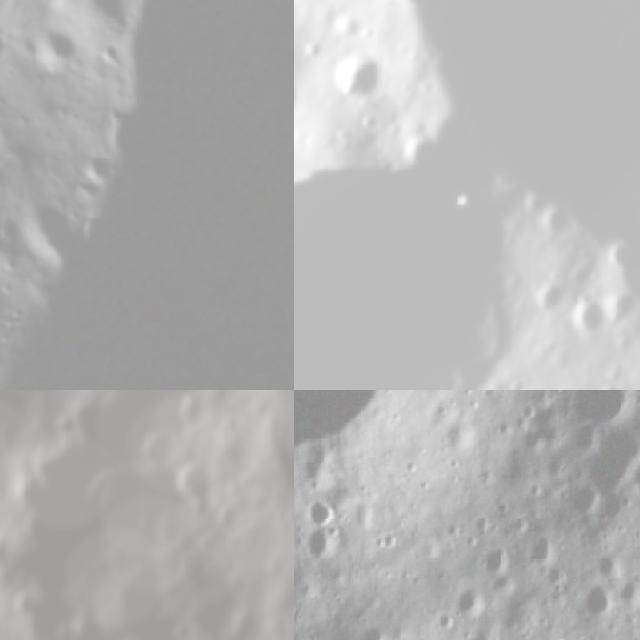crater: (294, 32, 624, 390), (78, 463, 159, 563), (568, 414, 640, 522), (325, 36, 399, 110), (587, 228, 640, 319), (27, 17, 94, 86), (557, 285, 623, 349), (166, 464, 228, 524), (565, 390, 636, 430), (0, 213, 38, 287), (536, 195, 587, 246), (72, 146, 119, 199), (530, 267, 577, 314), (174, 390, 221, 437), (448, 580, 493, 626), (574, 582, 620, 626), (142, 430, 184, 476), (524, 524, 560, 571), (302, 491, 344, 531), (469, 545, 510, 584), (0, 518, 21, 581), (353, 614, 392, 640), (294, 77, 312, 131), (0, 332, 16, 383), (592, 372, 636, 390), (0, 113, 13, 173), (0, 21, 13, 66)
